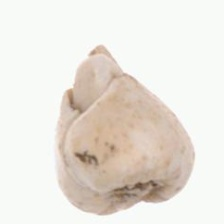L3: (65, 44, 131, 115)
L4: (53, 45, 195, 216)
